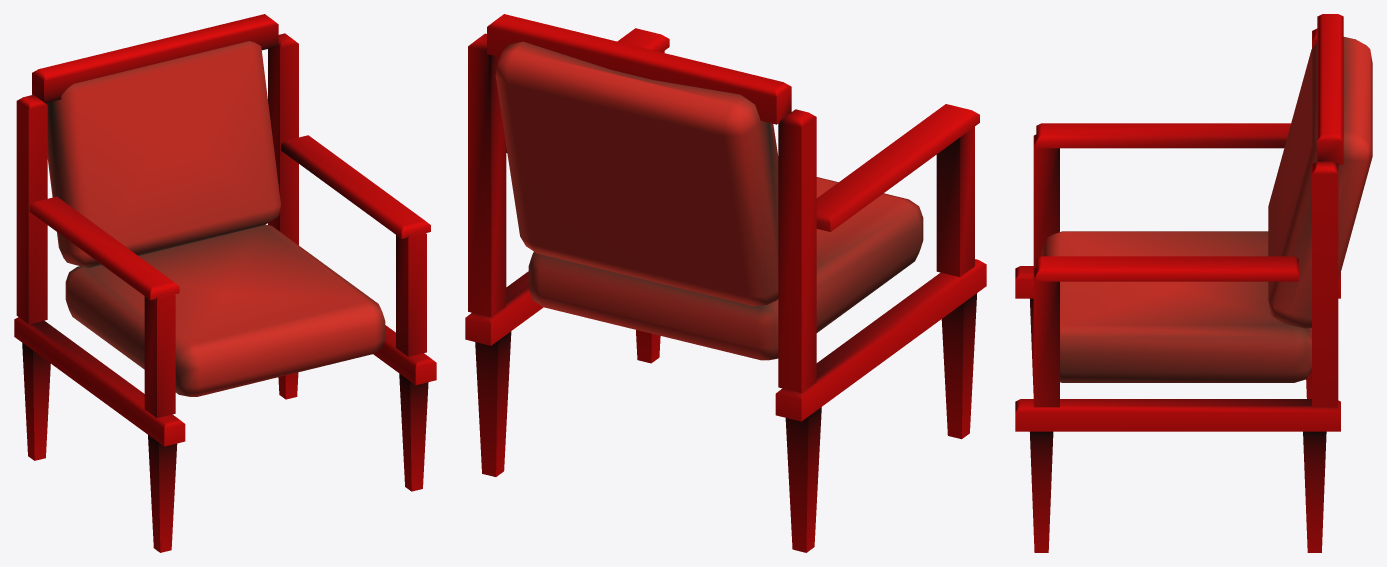
Rendered from CI_Cafe_Chair_Lounge.glb.
The picture shows the model from 3 angles, left to right: view 1: azimuth 30°, elevation 25°; view 2: azimuth 150°, elevation 25°; view 3: azimuth 270°, elevation 25°; orthographic projection. The views are drawn at different scales.
Parts seen in each view (by area): view 1: CI_Cafe_Chair_Lounge; view 2: CI_Cafe_Chair_Lounge; view 3: CI_Cafe_Chair_Lounge.
Part boxes in pixels (left/top/right/bottom): CI_Cafe_Chair_Lounge: left=14, top=14, right=436, bottom=552; CI_Cafe_Chair_Lounge: left=465, top=14, right=986, bottom=552; CI_Cafe_Chair_Lounge: left=1015, top=14, right=1372, bottom=552.
Size of the model in its own units: 0.67 by 0.86 by 0.6801.
